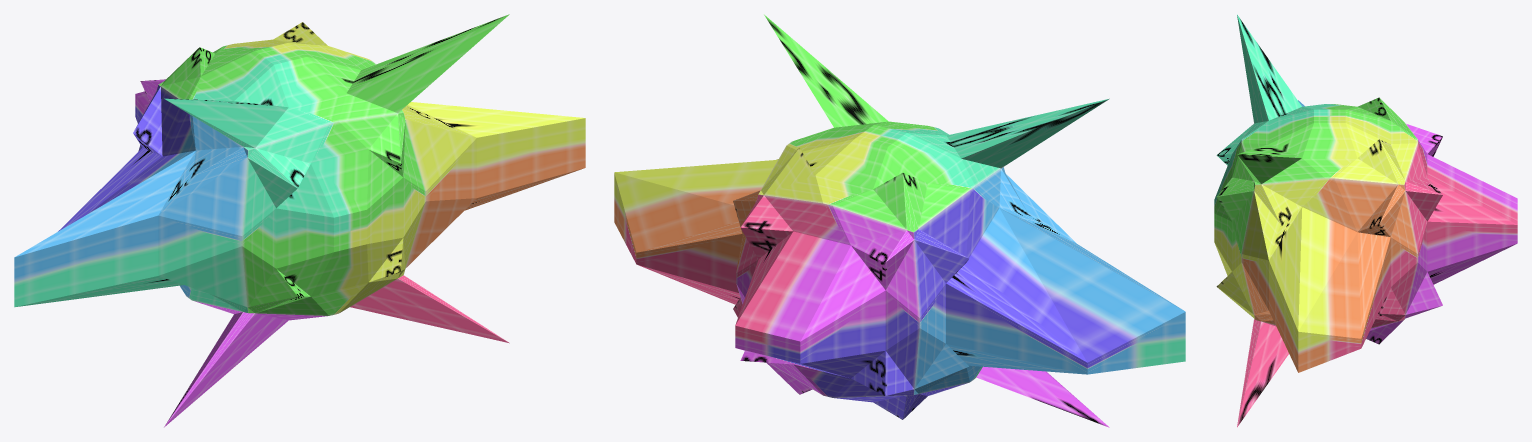
Rendered from enemy.obj.
3 views of the same model, side by side, from view 1: azimuth 30°, elevation 25°; view 2: azimuth 150°, elevation 25°; view 3: azimuth 270°, elevation 25° (orthographic). The views are drawn at different scales.
Parts seen in each view (by area): view 1: 立方体; view 2: 立方体; view 3: 立方体.
Part boxes in pixels (x1,y1,x2,y2): 立方体: (14, 14, 585, 427); 立方体: (614, 14, 1185, 427); 立方体: (1214, 14, 1517, 427).
Bounding box in the file's own units: 4.07 × 2.24 × 2.25.
1 material, 1 textured.
